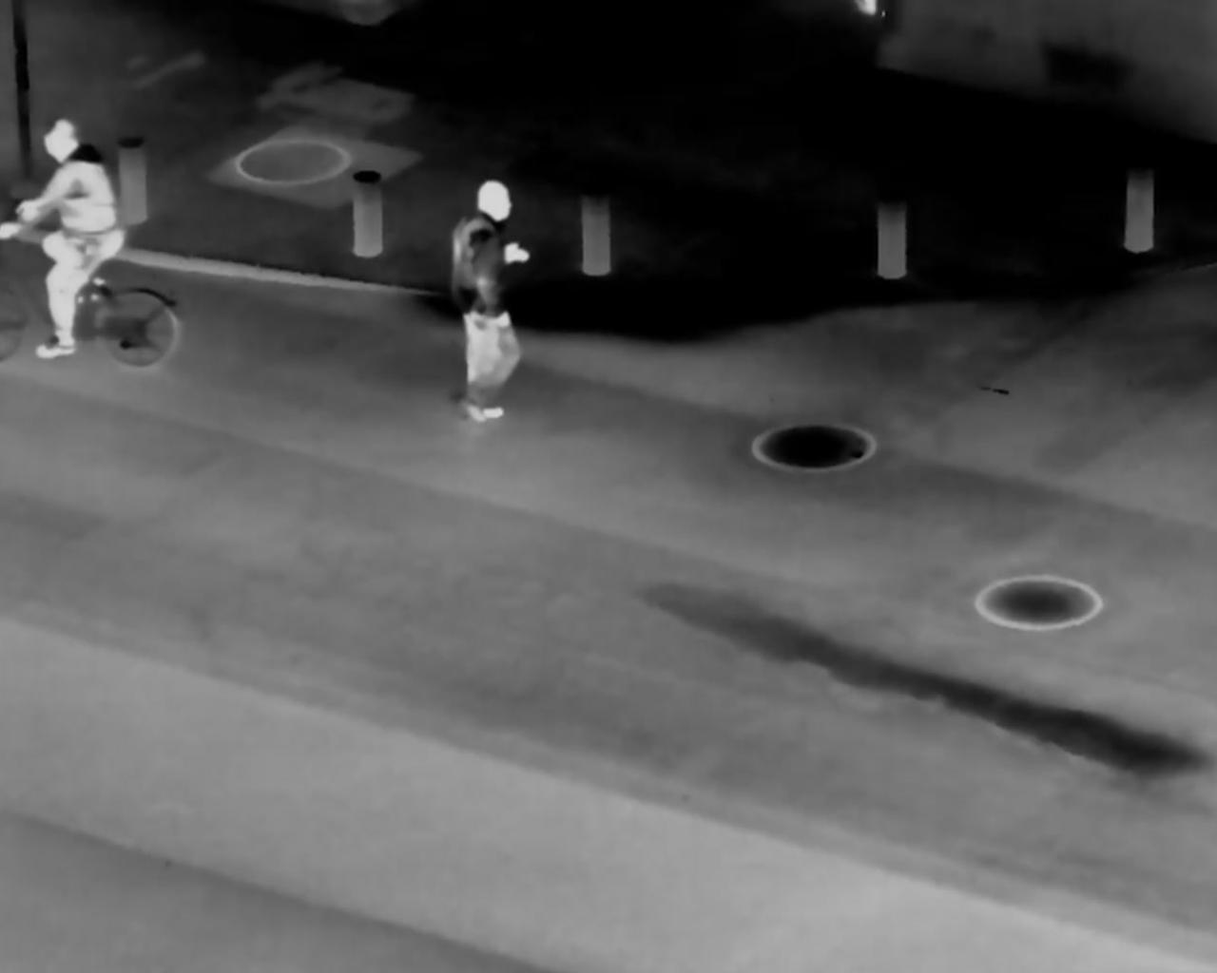person: (10, 115, 134, 372), (438, 173, 535, 425)
